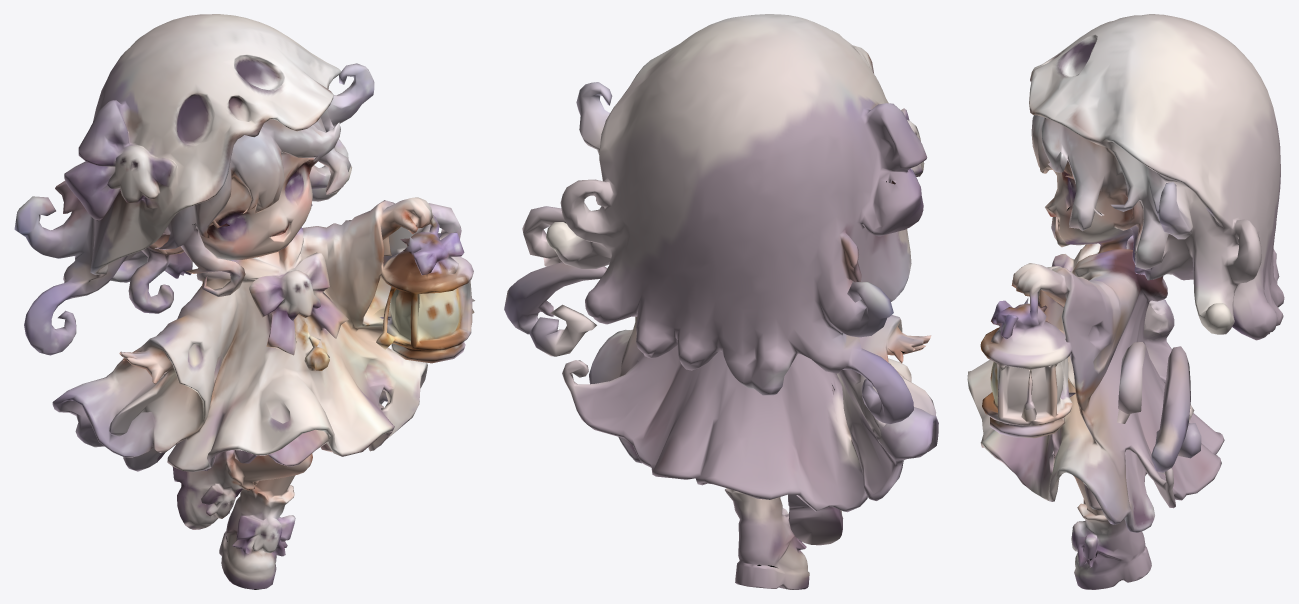
Rendered from original.glb.
3 renders of one model, left to right at view 1: azimuth 30°, elevation 25°; view 2: azimuth 150°, elevation 25°; view 3: azimuth 270°, elevation 25°, orthographic. The views are drawn at different scales.
Visible parts, largest first — view 1: Body; view 2: Body; view 3: Body.
Part boxes in pixels (<box>): Body: <box>14,14,474,589</box>; Body: <box>504,14,938,589</box>; Body: <box>967,14,1284,589</box>.
Bounding box in the file's own units: 0.7682 × 1 × 0.5211.
1 material, 1 textured.
